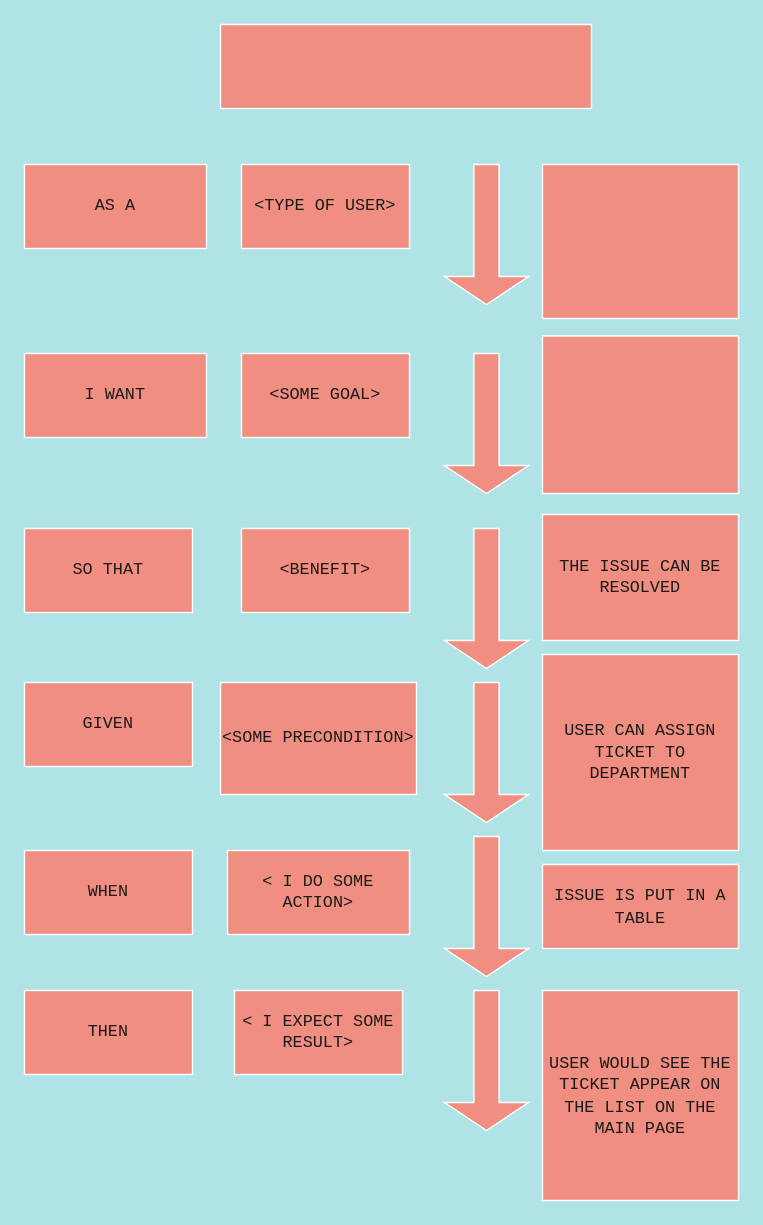
Some shapes in this 763 by 1225 pixel diagram are drawn without their labels. Each missing label, with the centre of its shape:
CREATE TICKET TO GET HELP: [639,414]
SERVICE TICKET MANAGER: [405,65]
USERS: [639,240]
